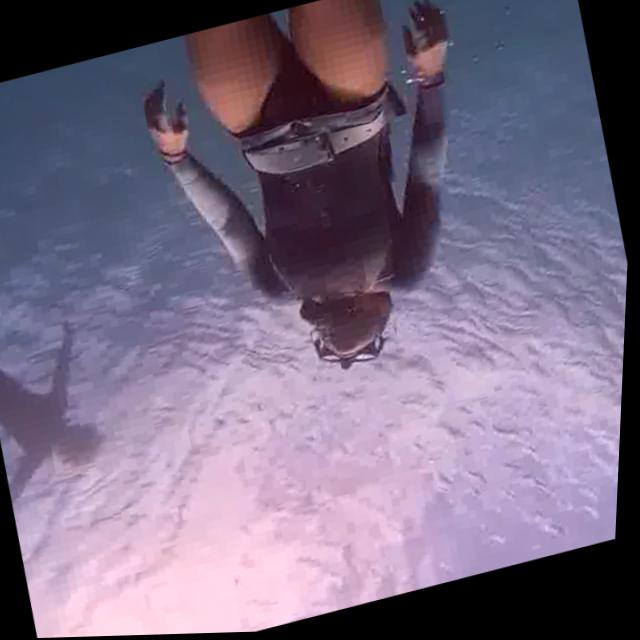human: (111, 0, 539, 419), (0, 187, 167, 564)
